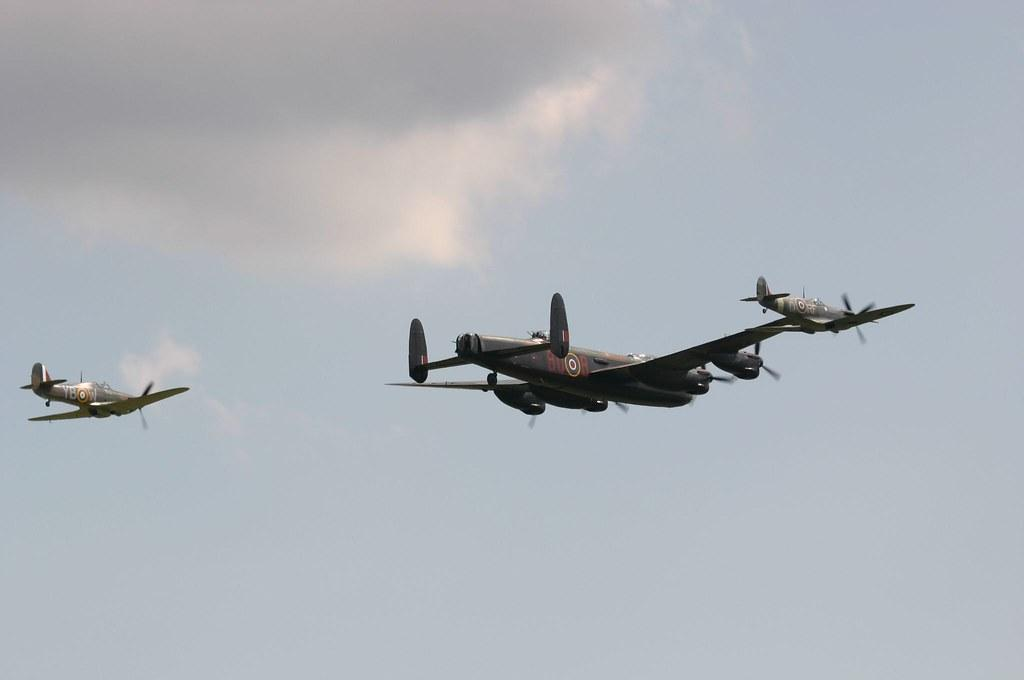plane: (385, 292, 806, 418), (740, 276, 916, 345), (20, 362, 190, 430)
